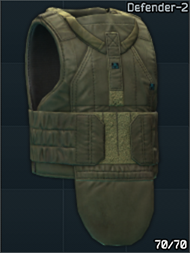FORT Defender-2 body armor: (0, 0, 190, 253)
